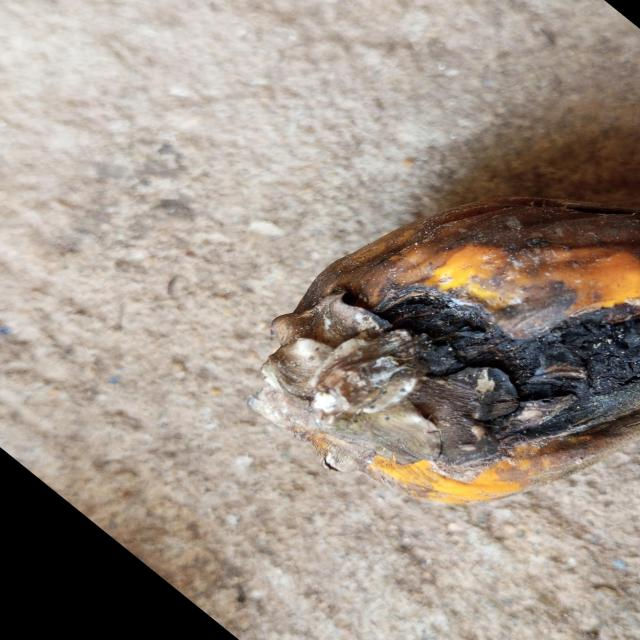damaged: (250, 197, 640, 508)
